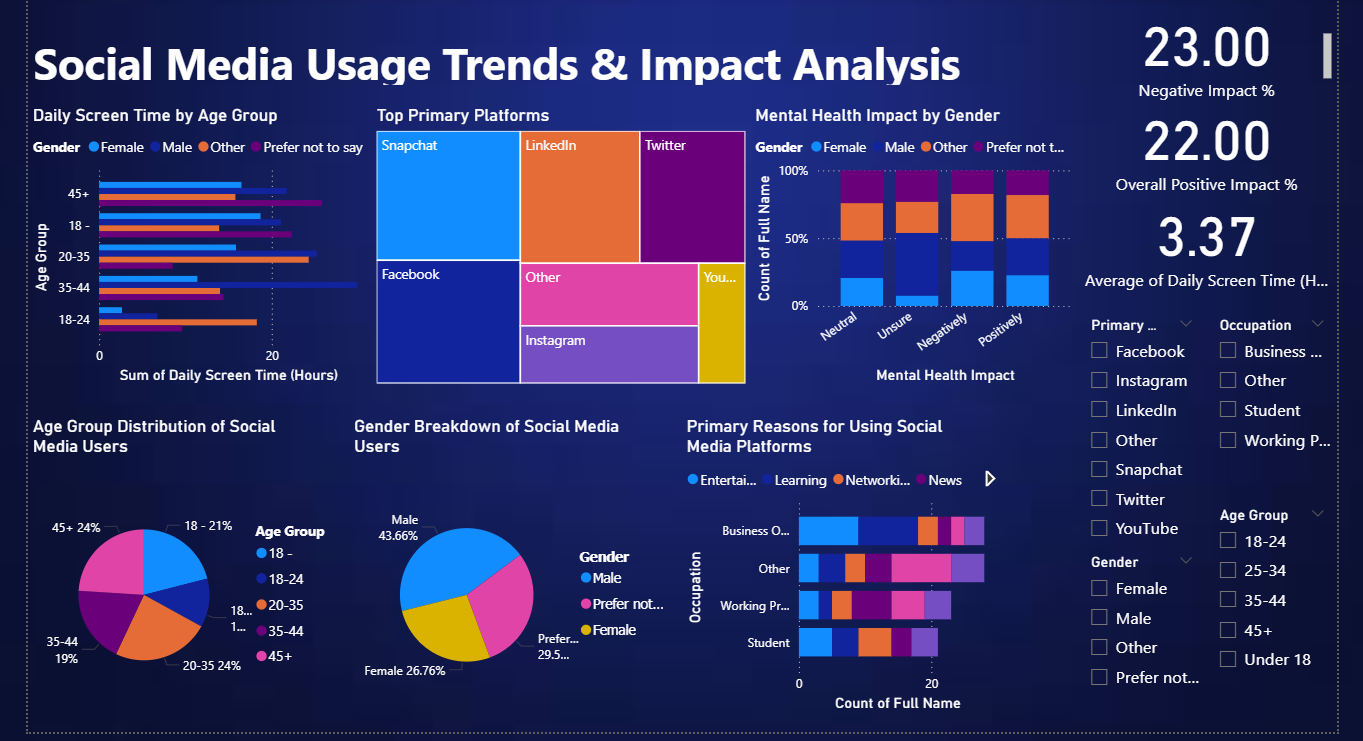

The dashboard page shown, as its layout file describes it:
{"tool":"powerbi","page":{"name":"Page 1","canvas":[1280,720],"ordinal":0},"visuals":[{"type":"pieChart","title":"Age Group Distribution of Social Media Users","fields":{"Y":["CountNonNull(social_media_usage.Full Name)"],"Series":["social_media_usage.Age Group"]},"box":[0,410.3,314.2,308.7],"z":0},{"type":"pieChart","title":"Gender Breakdown of Social Media Users","fields":{"Category":["social_media_usage.Gender"],"Y":["CountNonNull(social_media_usage.Full Name)"]},"box":[314.2,410.3,325.2,308.7],"z":1000},{"type":"clusteredBarChart","title":"Daily Screen Time by Age Group","fields":{"Category":["social_media_usage.Age Group"],"Y":["Sum(social_media_usage.Daily Screen Time (Hours))"],"Series":["social_media_usage.Gender"]},"box":[0,106.4,335.1,277.6],"z":2000},{"type":"treemap","title":"Top Primary Platforms","fields":{"Group":["social_media_usage (2).Primary Platform"],"Values":["CountNonNull(social_media_usage (2).Full Name)"]},"box":[336.3,106.4,370.5,277.6],"z":3000},{"type":"hundredPercentStackedColumnChart","title":" Mental Health Impact by Gender","fields":{"Category":["social_media_usage (2).Mental Health Impact"],"Y":["CountNonNull(social_media_usage (2).Full Name)"],"Series":["social_media_usage (2).Gender"]},"box":[706.8,106.4,320.4,277.6],"z":4000},{"type":"barChart","title":"Primary Reasons for Using Social Media Platforms","fields":{"Y":["CountNonNull(social_media_usage (2).Full Name)"],"Category":["social_media_usage (2).Occupation"],"Series":["social_media_usage (2).Primary Use of Social Media"]},"box":[639.5,410.3,321.1,293.7],"z":5000},{"type":"slicer","fields":{"Values":["social_media_usage (2).Gender"]},"box":[1027.8,540.7,124.9,179.8],"z":6000},{"type":"slicer","fields":{"Values":["social_media_usage (2).Age Group"]},"box":[1152.7,494,127.6,226.4],"z":7000},{"type":"slicer","fields":{"Values":["social_media_usage (2).Primary Platform"]},"box":[1027.8,308.7,124.9,231.9],"z":8000},{"type":"slicer","fields":{"Values":["social_media_usage (2).Occupation"]},"box":[1152.7,308.7,127.6,231.9],"z":9000},{"type":"textbox","box":[0,31.8,1280.3,59.9],"z":10000},{"type":"card","fields":{"Values":["Avg(social_media_usage (2).Daily Screen Time (Hours))"]},"box":[1027.8,170.2,252.5,138.6],"z":11000},{"type":"card","fields":{"Values":["social_media_usage.Overall Positive Impact %"]},"box":[1027.7,91.2,252.3,106.9],"z":12000},{"type":"card","fields":{"Values":["social_media_usage.Negative Impact %"]},"box":[1044.8,0,218.1,106.9],"z":13000}]}

Visuals, with their boxes on the page's 1280x720 design canvas (x1, y1, x2, y2). These are canvas units, not pixel positions in the 1363x741 screenshot, which may show the page scaled, cropped or inside an application window:
"Age Group Distribution of Social Media Users" pieChart: {"left": 0, "top": 410, "right": 314, "bottom": 719}
"Gender Breakdown of Social Media Users" pieChart: {"left": 314, "top": 410, "right": 639, "bottom": 719}
"Daily Screen Time by Age Group" clusteredBarChart: {"left": 0, "top": 106, "right": 335, "bottom": 384}
"Top Primary Platforms" treemap: {"left": 336, "top": 106, "right": 707, "bottom": 384}
" Mental Health Impact by Gender" hundredPercentStackedColumnChart: {"left": 707, "top": 106, "right": 1027, "bottom": 384}
"Primary Reasons for Using Social Media Platforms" barChart: {"left": 640, "top": 410, "right": 961, "bottom": 704}
slicer - social_media_usage (2).Gender: {"left": 1028, "top": 541, "right": 1153, "bottom": 720}
slicer - social_media_usage (2).Age Group: {"left": 1153, "top": 494, "right": 1280, "bottom": 720}
slicer - social_media_usage (2).Primary Platform: {"left": 1028, "top": 309, "right": 1153, "bottom": 541}
slicer - social_media_usage (2).Occupation: {"left": 1153, "top": 309, "right": 1280, "bottom": 541}
textbox: {"left": 0, "top": 32, "right": 1280, "bottom": 92}
card - Avg(social_media_usage (2).Daily Screen Time (Hours)): {"left": 1028, "top": 170, "right": 1280, "bottom": 309}
card - social_media_usage.Overall Positive Impact %: {"left": 1028, "top": 91, "right": 1280, "bottom": 198}
card - social_media_usage.Negative Impact %: {"left": 1045, "top": 0, "right": 1263, "bottom": 107}
